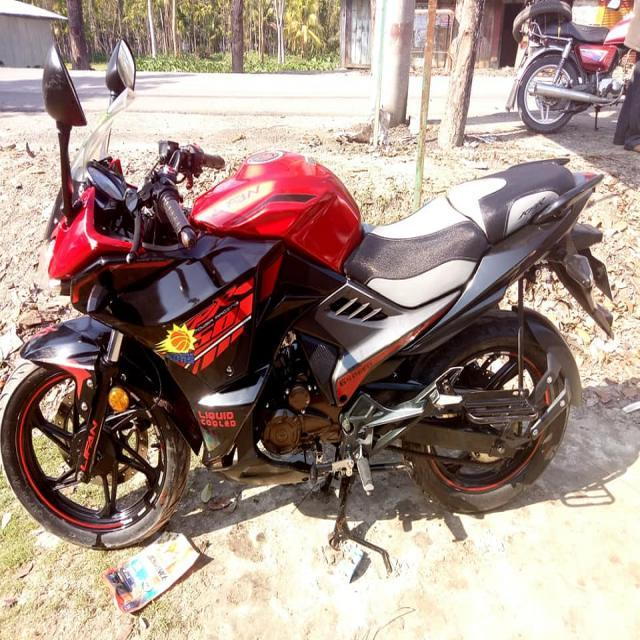Motorbike: (1, 40, 631, 579), (494, 1, 640, 161)
